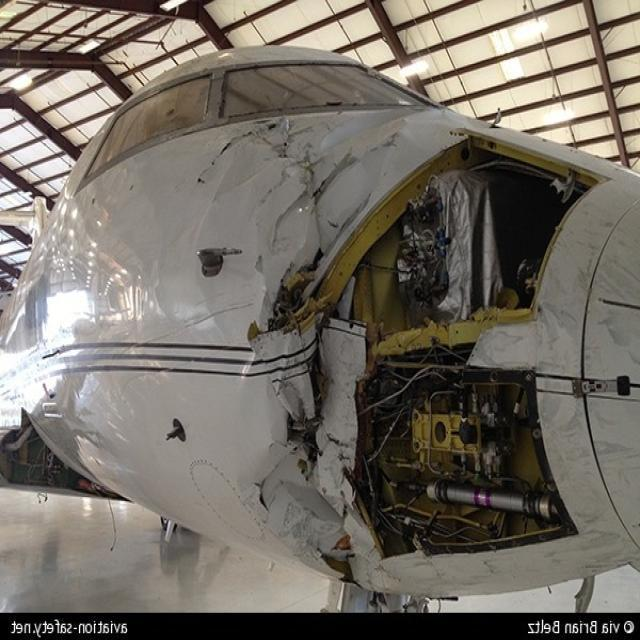crack: (198, 127, 264, 183), (255, 451, 292, 514)
